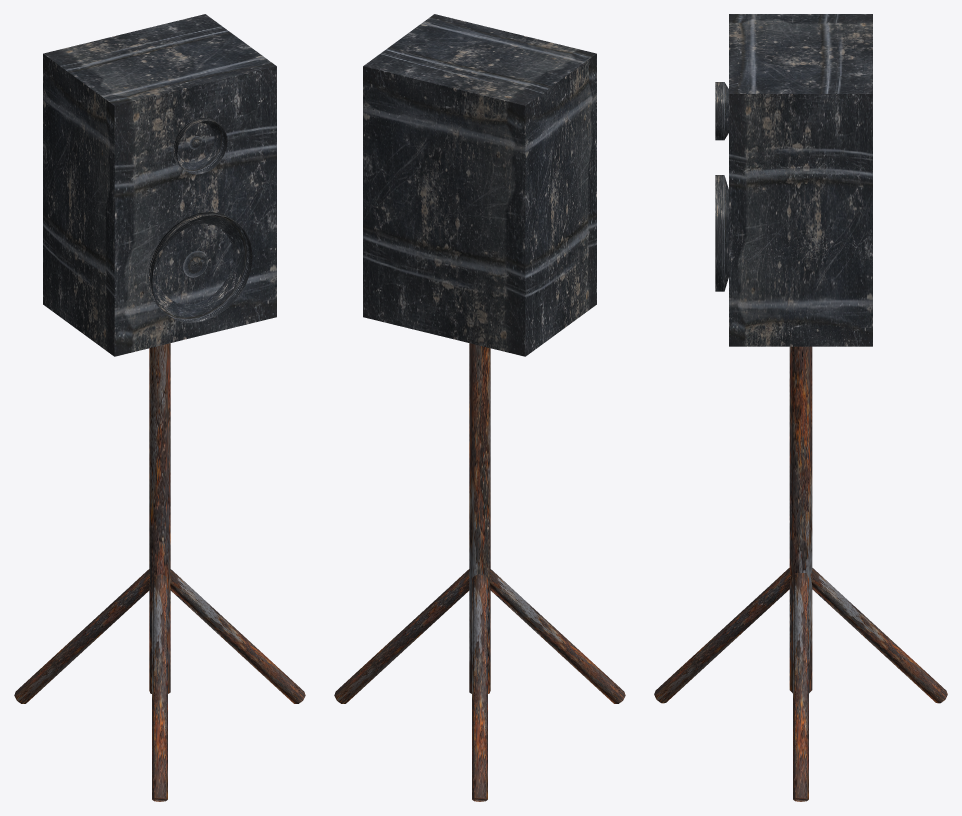
The model's file is prop_speaker.glb.
The picture shows the model from 3 angles, left to right: view 1: azimuth 30°, elevation 25°; view 2: azimuth 150°, elevation 25°; view 3: azimuth 270°, elevation 25°; orthographic projection.
Visible parts, largest first — view 1: prop_speaker; view 2: prop_speaker; view 3: prop_speaker.
Boxes of the visible parts, x1,y1,x2,y2 form: prop_speaker: (14,14,305,801); prop_speaker: (334,14,625,801); prop_speaker: (654,14,947,801).
Size of the model in its own units: 0.5834 by 1.67 by 0.6527.
Materials: 2 (2 with a texture image).
